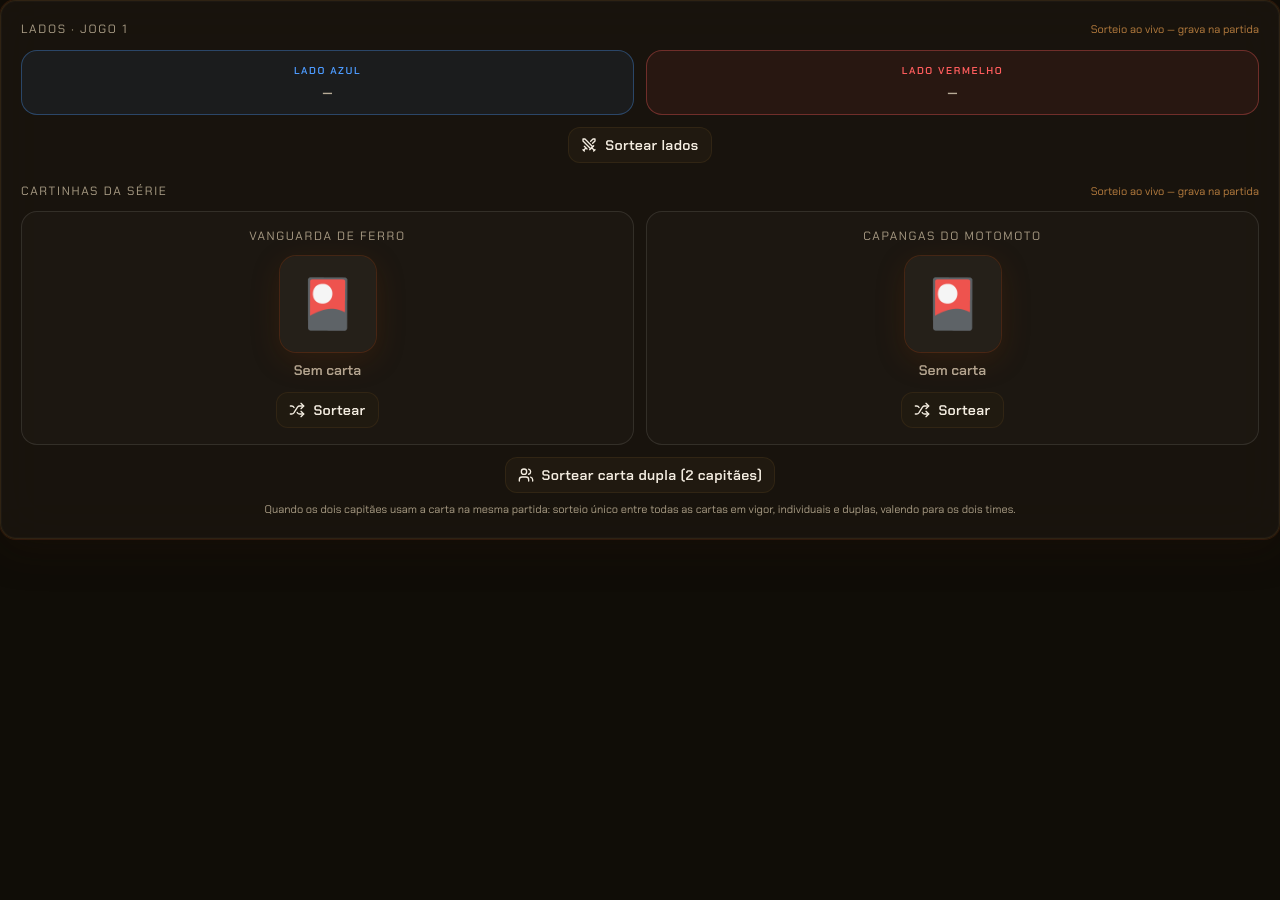
Test: a cerimônia revela o resultado — e revela mesmo sem animação › com movimento reduzido, o resultado aparece inteiro: lados, semente e autor
The width and height of the screenshot is (1280, 900).
Click the button "Sortear lados". click: (640, 144)
box: [568,126,712,162]
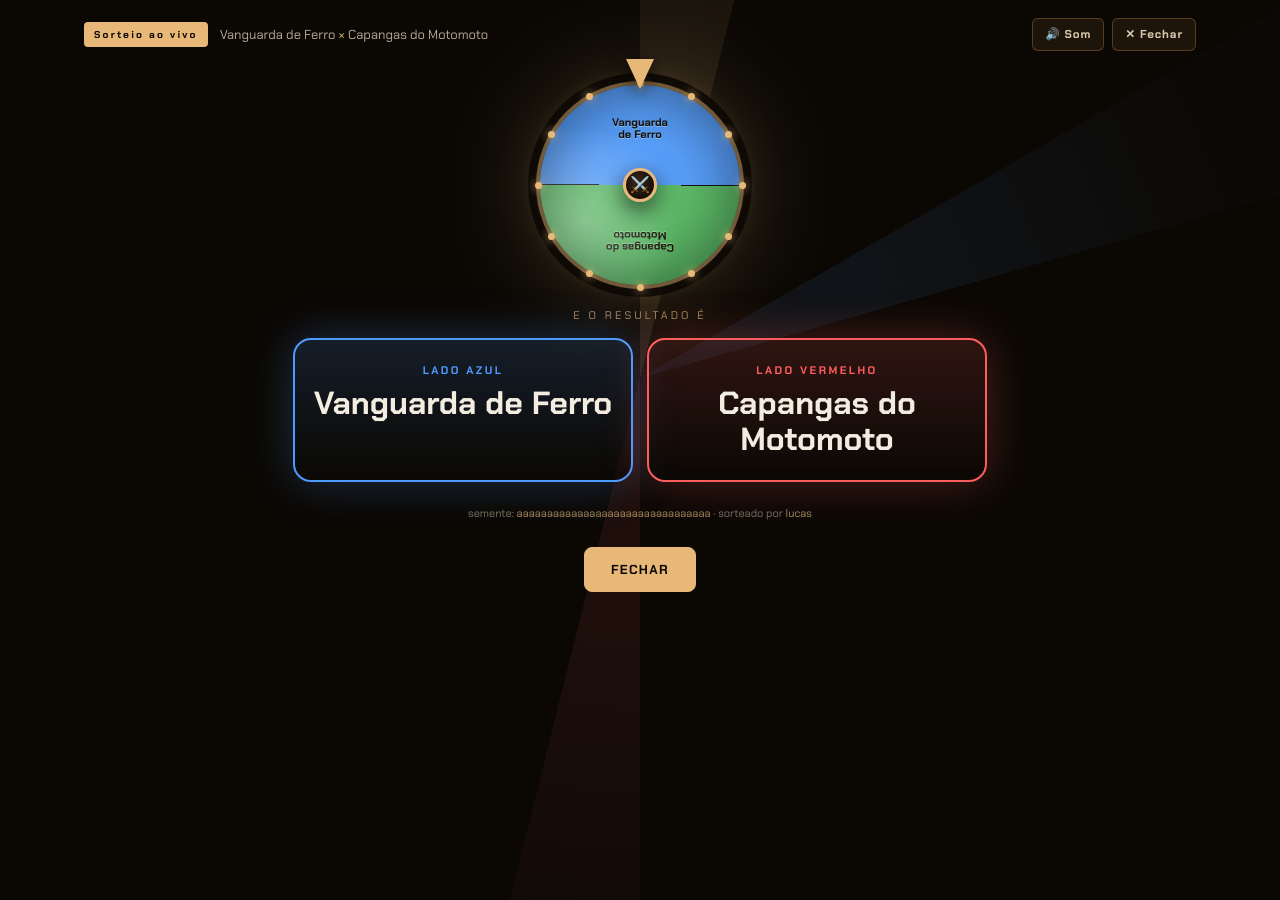
Expected: the dialog shows "Vanguarda de Ferro", [220,26,335,43]
